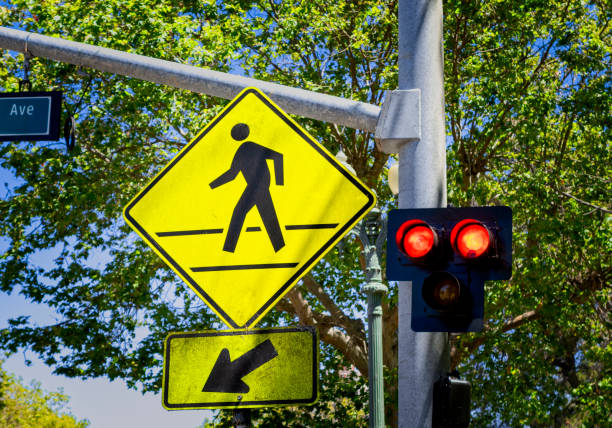pedestrian: (155, 111, 330, 287)
